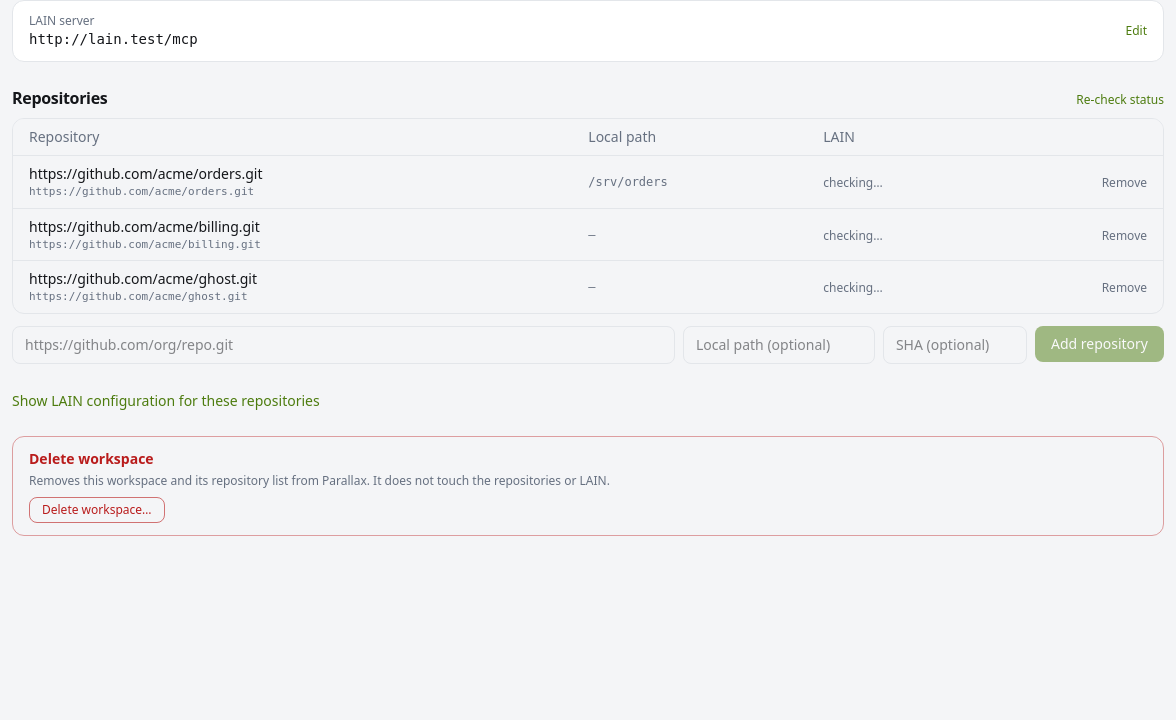
RepoManager — LAIN server, configuration, deletion › shows the generated LAIN configuration on demand and copies it
Click the button "Show LAIN configuration for these repositories" at x=166, y=401, box [12,391,320,411]
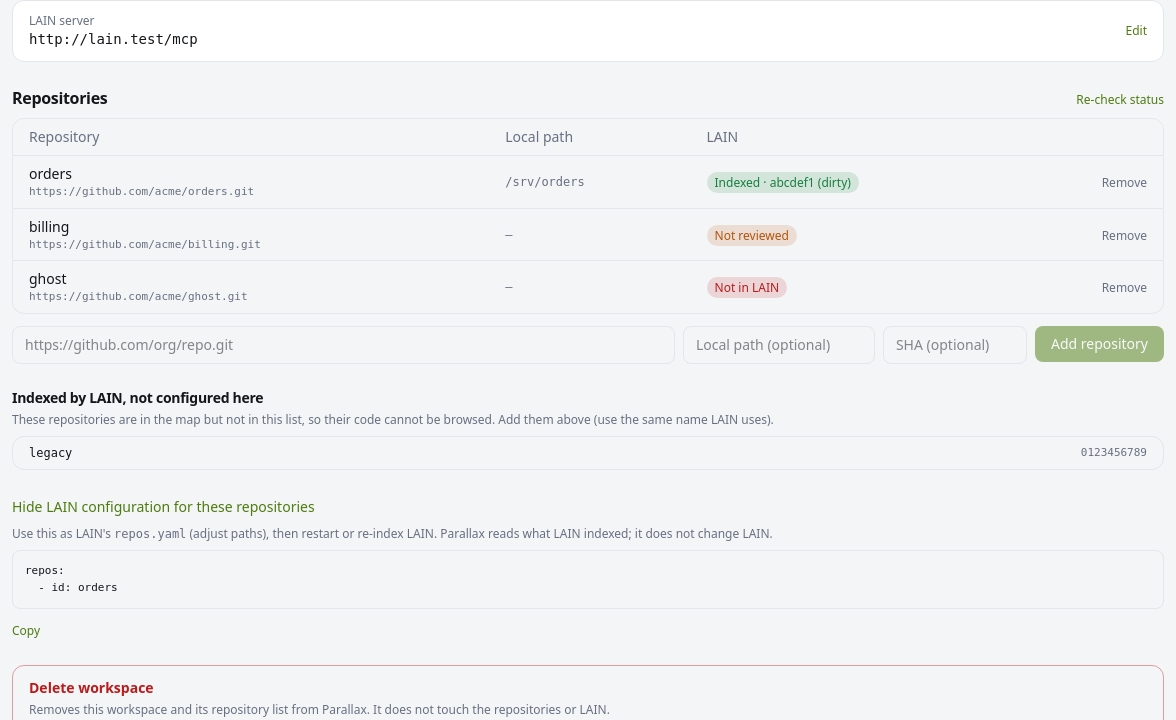
Click the button "Copy" at x=26, y=631, box [12,623,40,639]
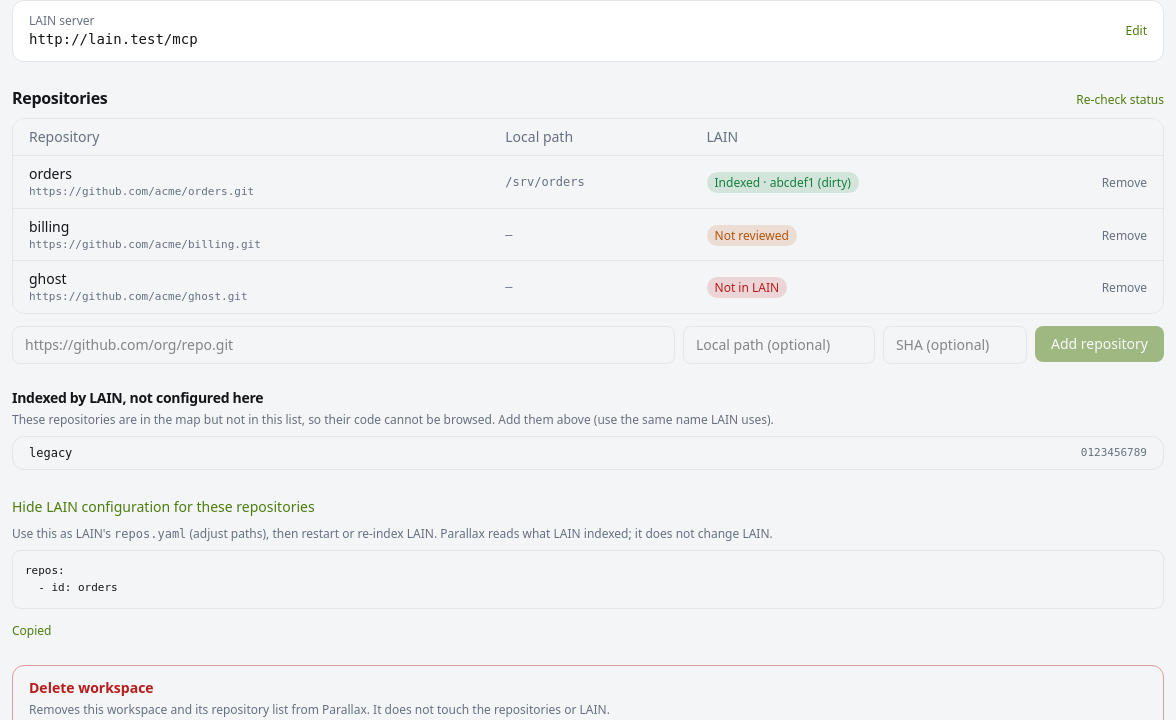
Check: the button "Copied" is shown, box [12,623,52,639]
Click the button "Hide LAIN configuration for these repositories" at x=163, y=507, box [12,497,315,517]
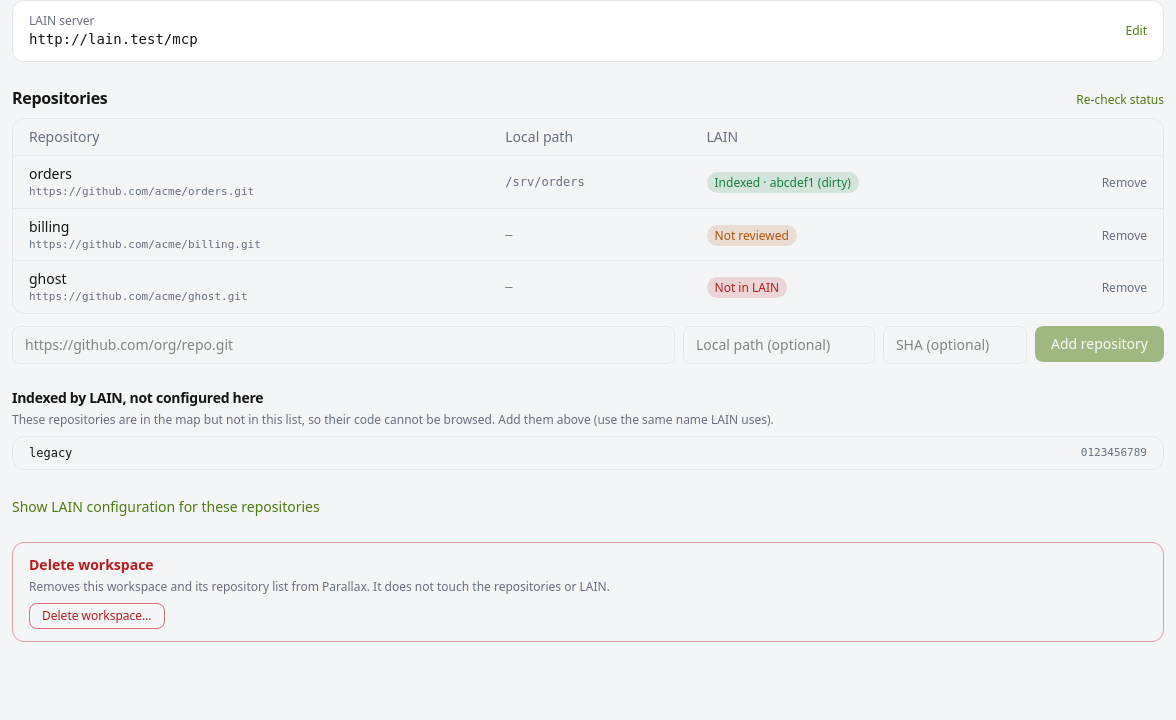
Check: the text with test id "lain-config" is gone
